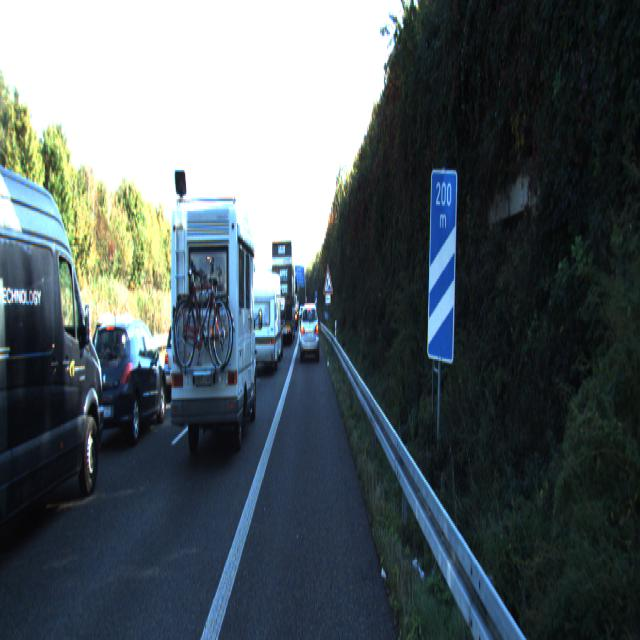Car: (0, 155, 108, 577), (168, 198, 260, 466), (84, 316, 167, 450), (248, 266, 282, 374), (272, 236, 295, 341), (299, 300, 319, 360)
